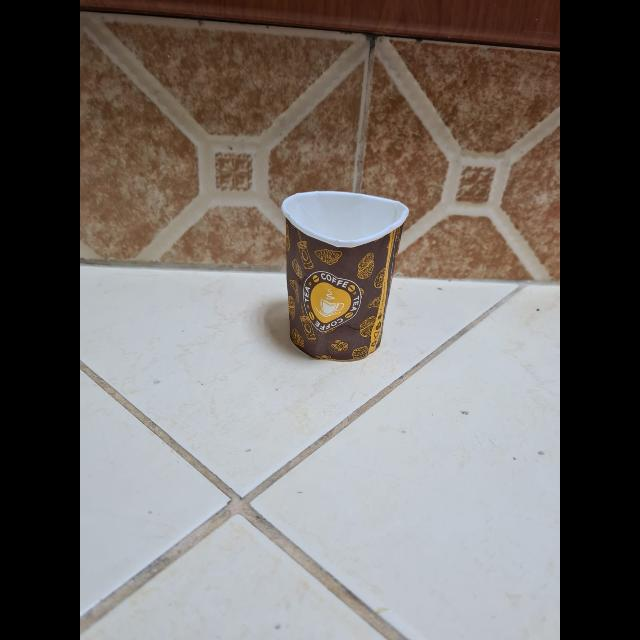trash: (276, 190, 408, 368)
